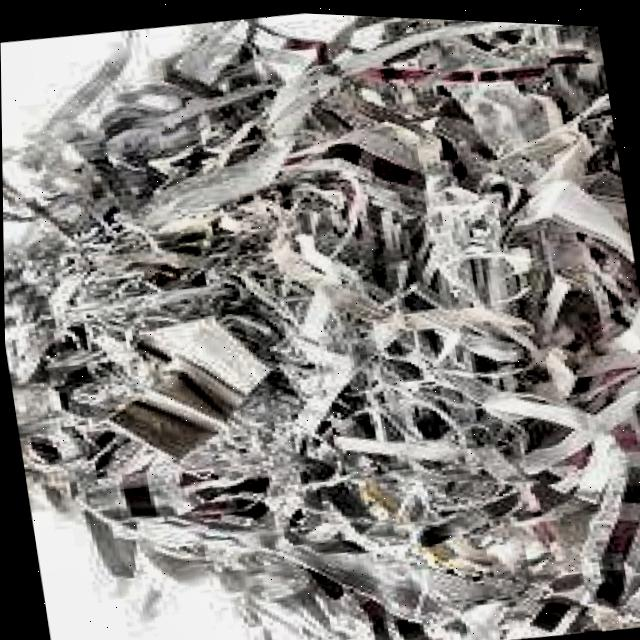paper: (2, 10, 640, 640)
